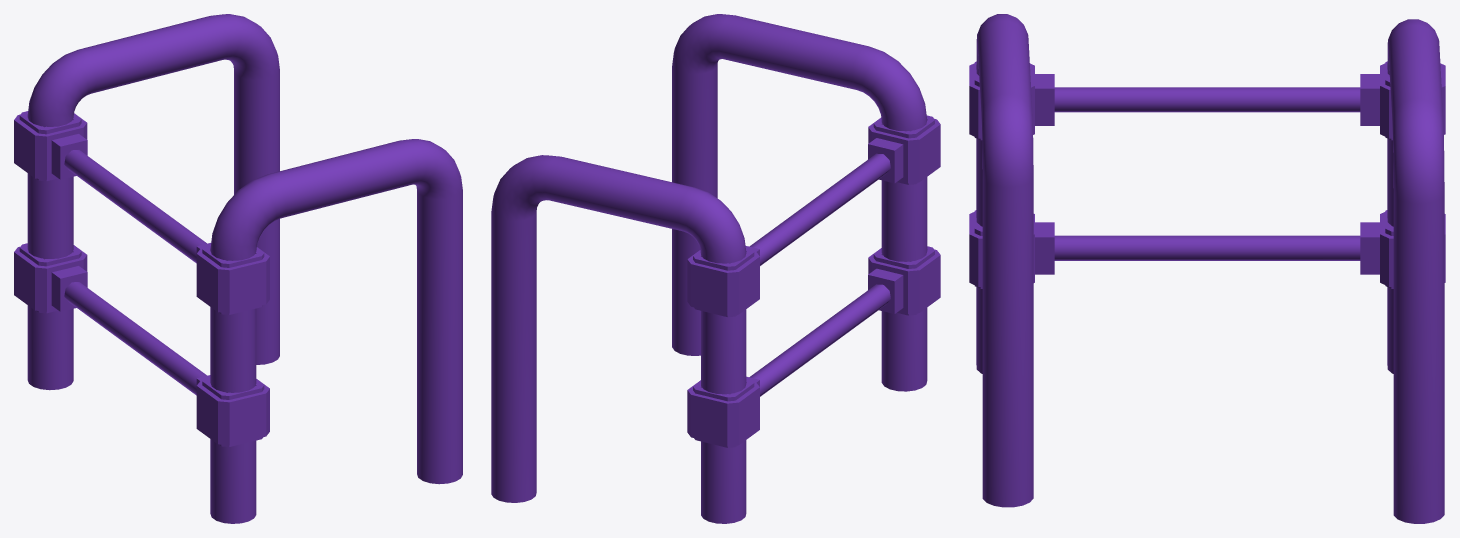
File: Ladder_A_1m_End.FBX
3 renders of one model, left to right at view 1: azimuth 30°, elevation 25°; view 2: azimuth 150°, elevation 25°; view 3: azimuth 270°, elevation 25°, orthographic. The views are drawn at different scales.
Visible parts, largest first — view 1: Ladder_A_1m_End; view 2: Ladder_A_1m_End; view 3: Ladder_A_1m_End.
Part boxes in pixels (left/top/right/bottom): Ladder_A_1m_End: left=14, top=14, right=462, bottom=523; Ladder_A_1m_End: left=491, top=14, right=940, bottom=523; Ladder_A_1m_End: left=969, top=14, right=1445, bottom=523.
Bounding box in the file's own units: 101 × 135 × 145.
